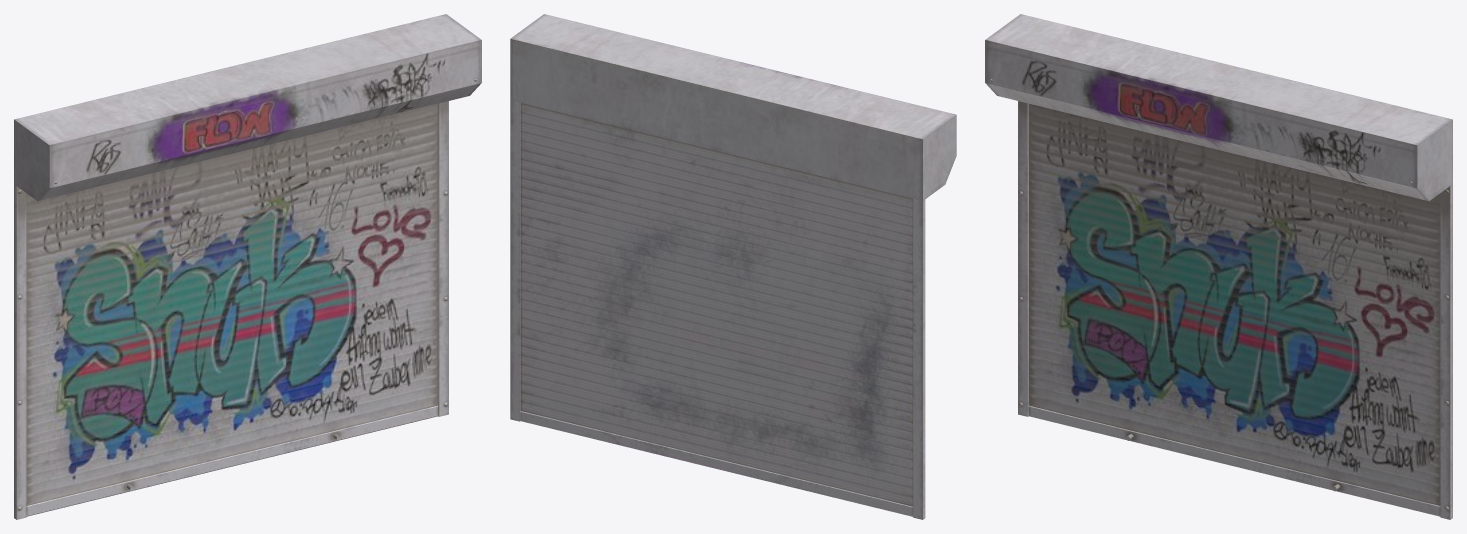
The model's file is shutter_window_g.glb.
3 renders of one model, left to right at view 1: azimuth 30°, elevation 25°; view 2: azimuth 150°, elevation 25°; view 3: azimuth 330°, elevation 25°, orthographic. The views are drawn at different scales.
Parts seen in each view (by area): view 1: shutter_window_g; view 2: shutter_window_g; view 3: shutter_window_g.
Boxes of the visible parts, <box> form: shutter_window_g: <box>14,14,481,519</box>; shutter_window_g: <box>510,14,956,519</box>; shutter_window_g: <box>985,14,1452,519</box>.
Size of the model in its own units: 2.1 by 1.85 by 0.2999.
Materials: 1 (1 with a texture image).
